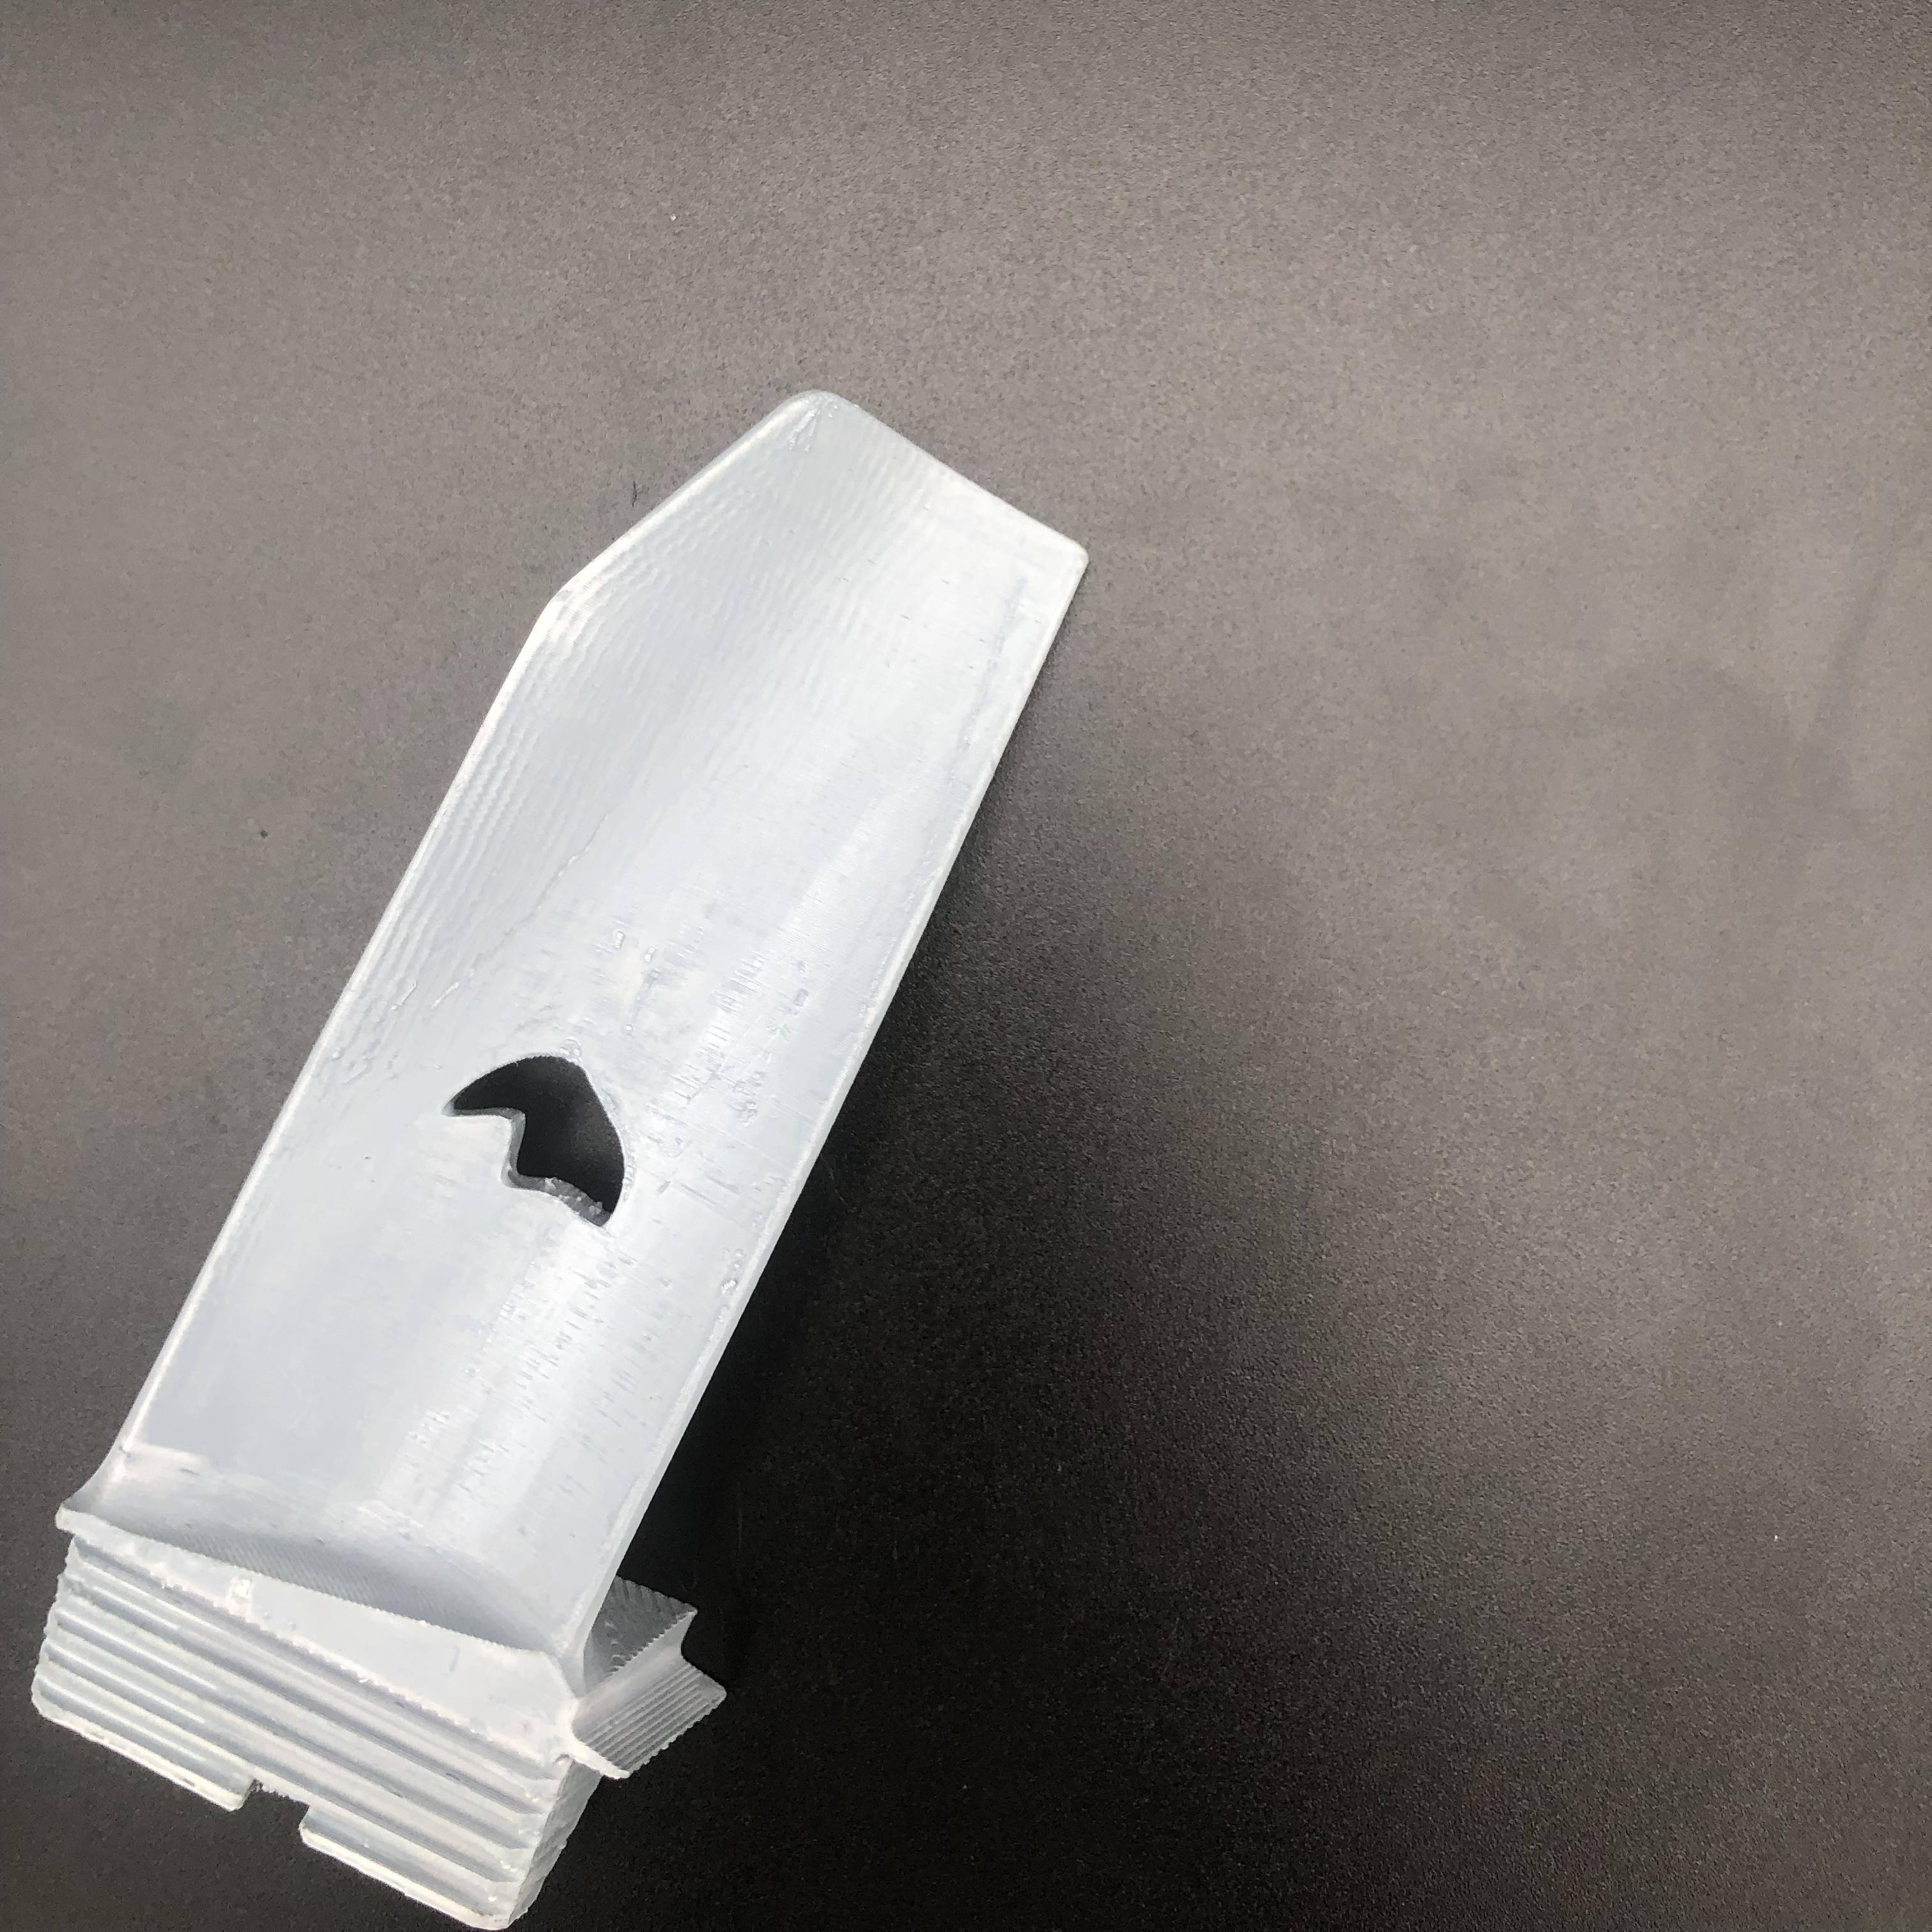breakdown: (432, 1042, 649, 1237)
